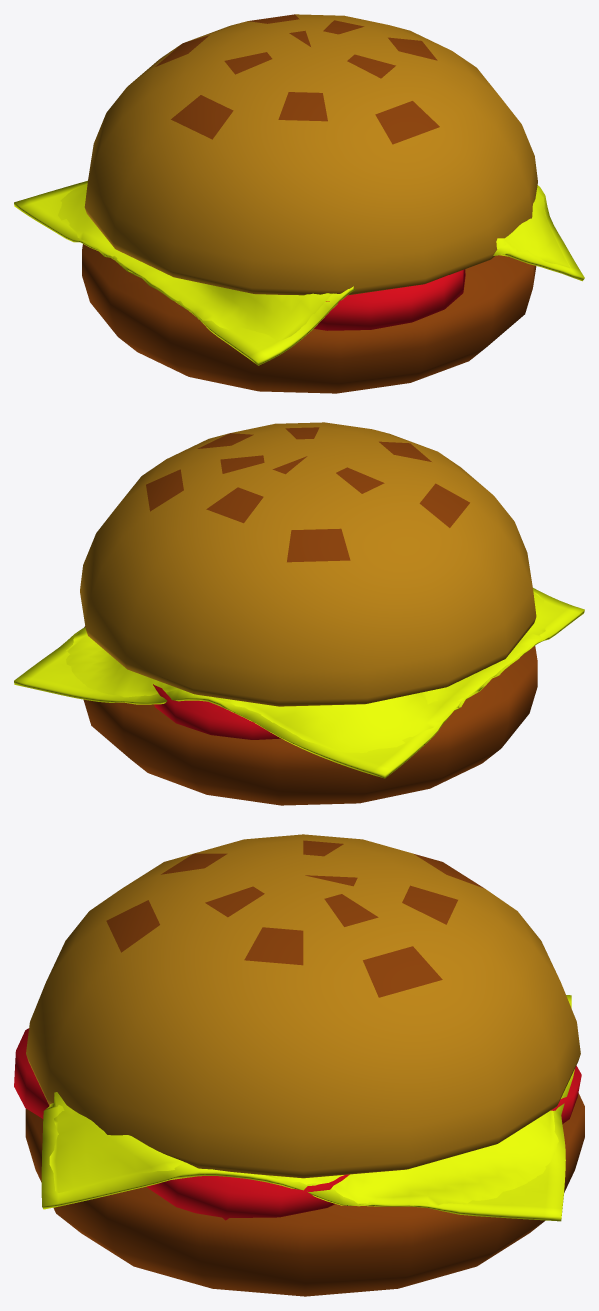
File: Gamburger.fbx
The picture shows the model from 3 angles, top to bottom: view 1: azimuth 30°, elevation 25°; view 2: azimuth 150°, elevation 25°; view 3: azimuth 270°, elevation 25°; orthographic projection. The views are drawn at different scales.
Visible parts, largest first — view 1: Gamburger; view 2: Gamburger; view 3: Gamburger.
Part boxes in pixels (x1,y1,x2,y2): Gamburger: (14, 14, 584, 393); Gamburger: (14, 422, 584, 805); Gamburger: (14, 834, 584, 1296).
Bounding box in the file's own units: 75.35 × 48.72 × 76.93.
